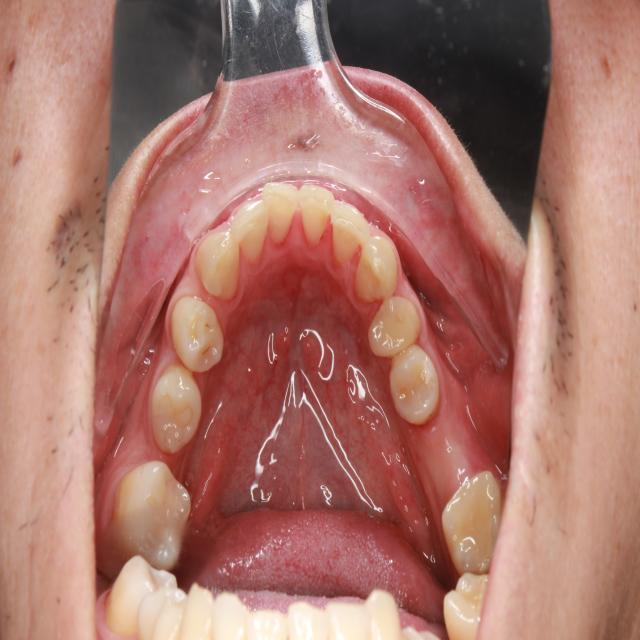tooth: (106, 450, 198, 576), (433, 462, 507, 589), (148, 356, 207, 460), (385, 341, 449, 432), (169, 290, 234, 377), (193, 223, 251, 308), (257, 165, 305, 259), (349, 221, 401, 307), (367, 293, 425, 363), (325, 188, 368, 281), (294, 171, 337, 256), (231, 192, 277, 270)
